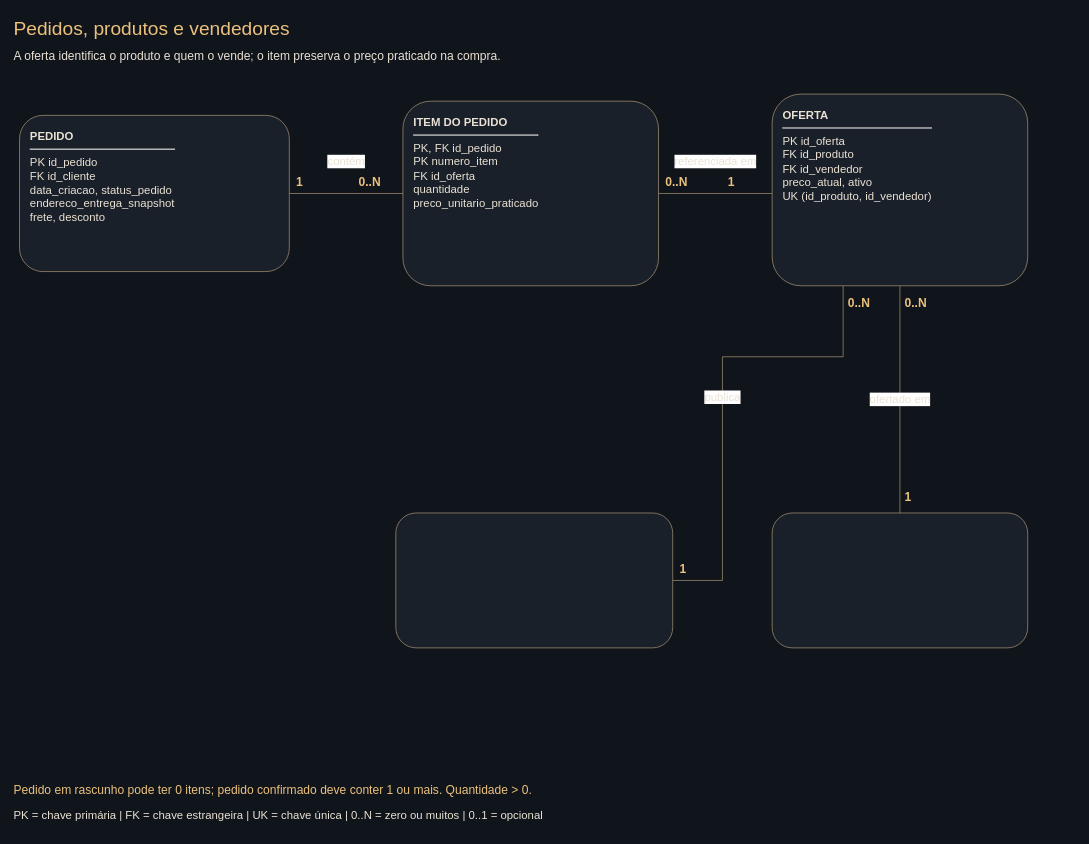
Image size: 1089x844. Some labels were removed from this diagram. The centre of each missing label's shape, as x and y in pixels:
PRODUTO PK id_produto descricao categoria: (899,580)
VENDEDOR PK id_vendedor nome / razao_social tipo: plataforma | terceiro: (534,580)
